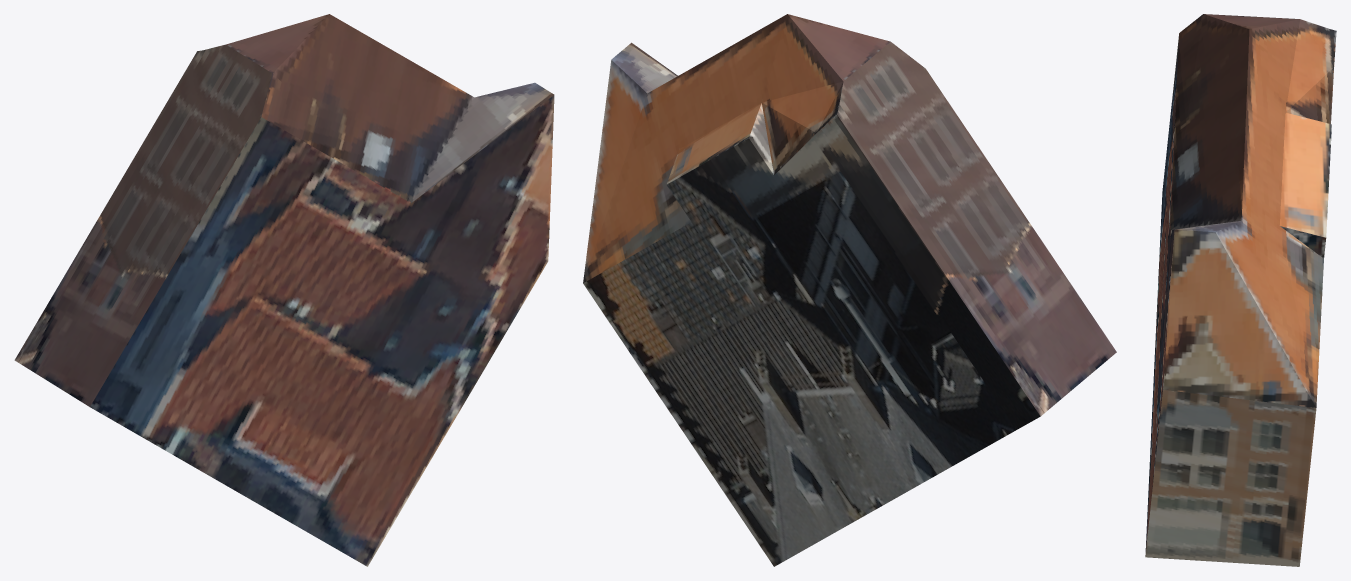
The picture shows the model from 3 angles, left to right: view 1: azimuth 30°, elevation 25°; view 2: azimuth 150°, elevation 25°; view 3: azimuth 270°, elevation 25°; orthographic projection. The views are drawn at different scales.
Parts seen in each view (by area): view 1: BAG_0599100000760364 (×4); view 2: BAG_0599100000760364 (×5); view 3: BAG_0599100000760364 (×5).
Boxes of the visible parts, x1,y1,x2,y2 form: BAG_0599100000760364 (×4): (14,14,554,566); BAG_0599100000760364 (×5): (583,14,1116,566); BAG_0599100000760364 (×5): (1145,14,1336,566).
Bounding box in the file's own units: 21.99 × 23.31 × 7.43.
Materials: 1 (1 with a texture image).
